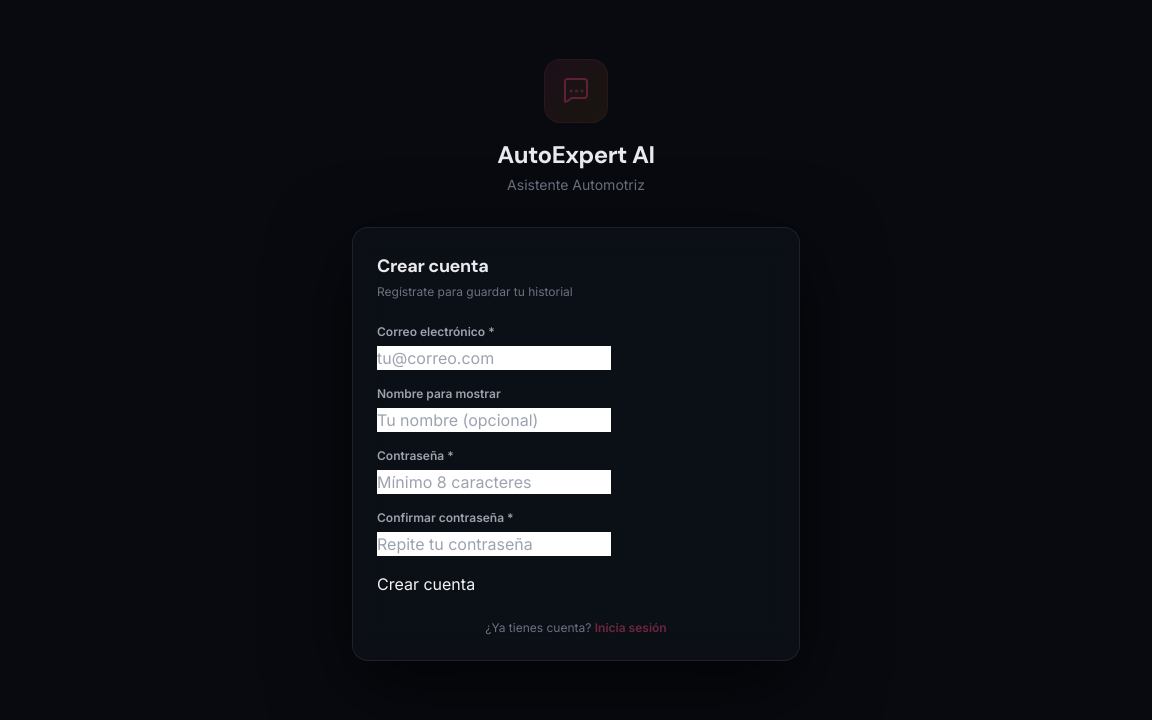
it: RegisterPage › shows password mismatch warning
The image size is (1152, 720).
Type "password123" into the password field labelled "Contraseña *". click: (494, 482)
box: top-left (377, 470), bottom-right (611, 494)
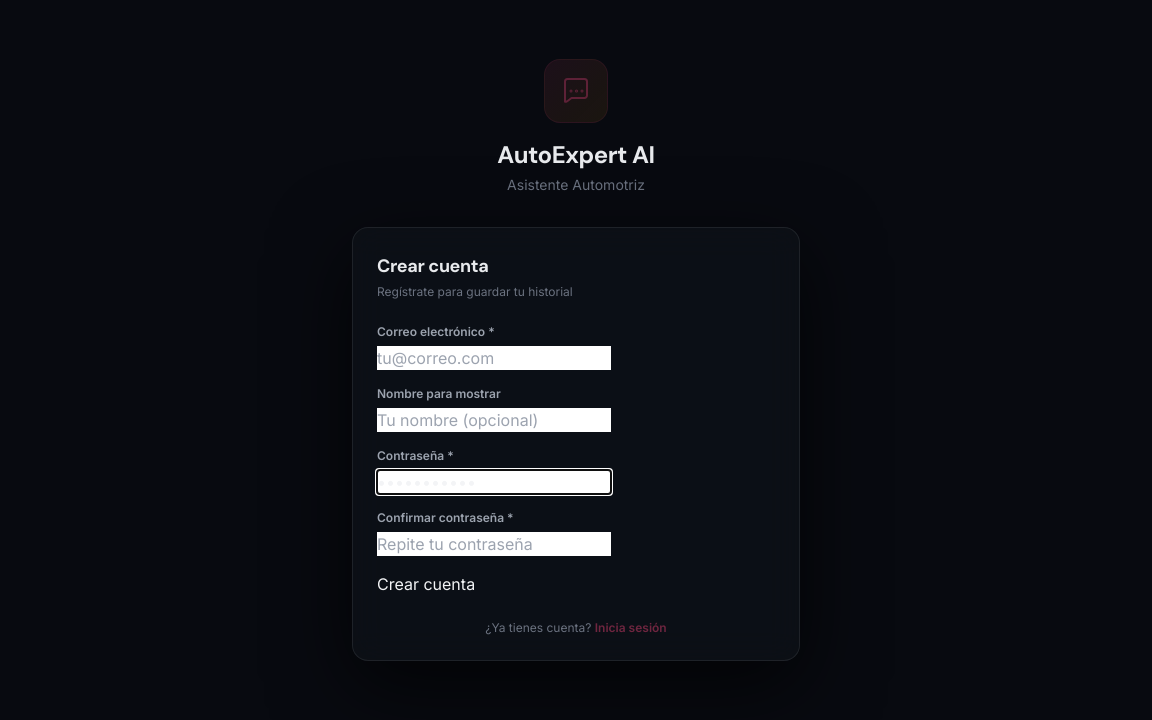
Type "different" into the password field labelled "Confirmar contraseña *". click: (494, 544)
box: top-left (377, 532), bottom-right (611, 556)
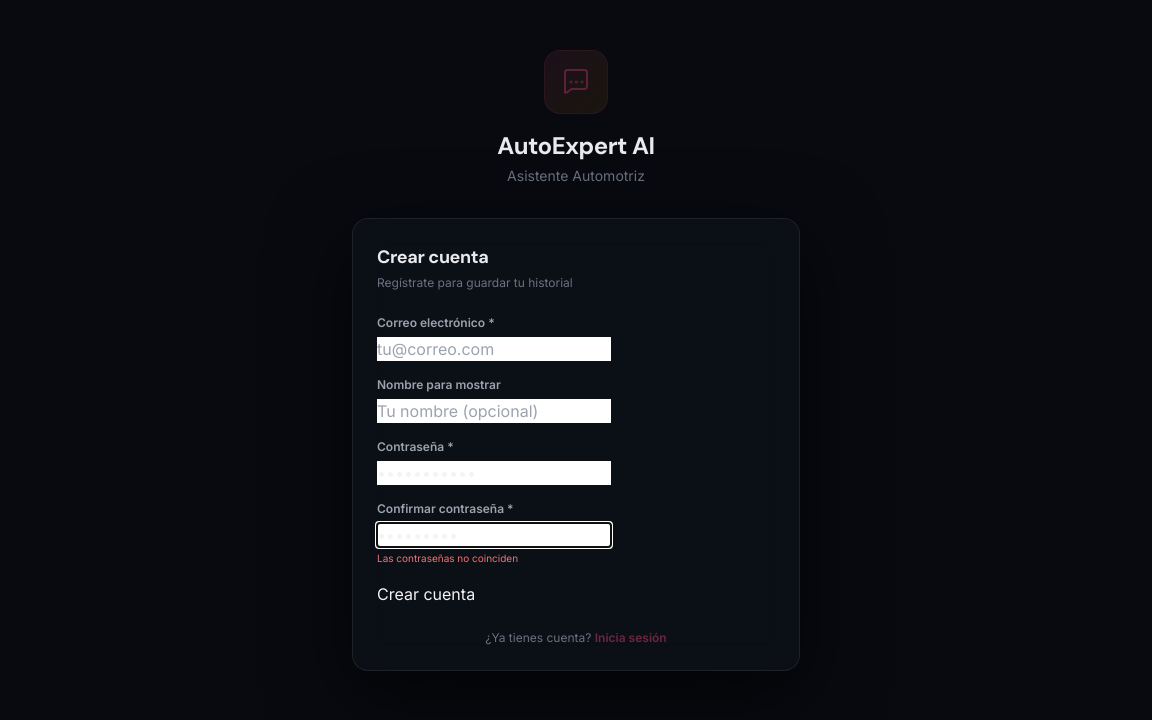
Now the text "Las contraseñas no coinciden" is shown, box top-left (377, 552), bottom-right (518, 564)
